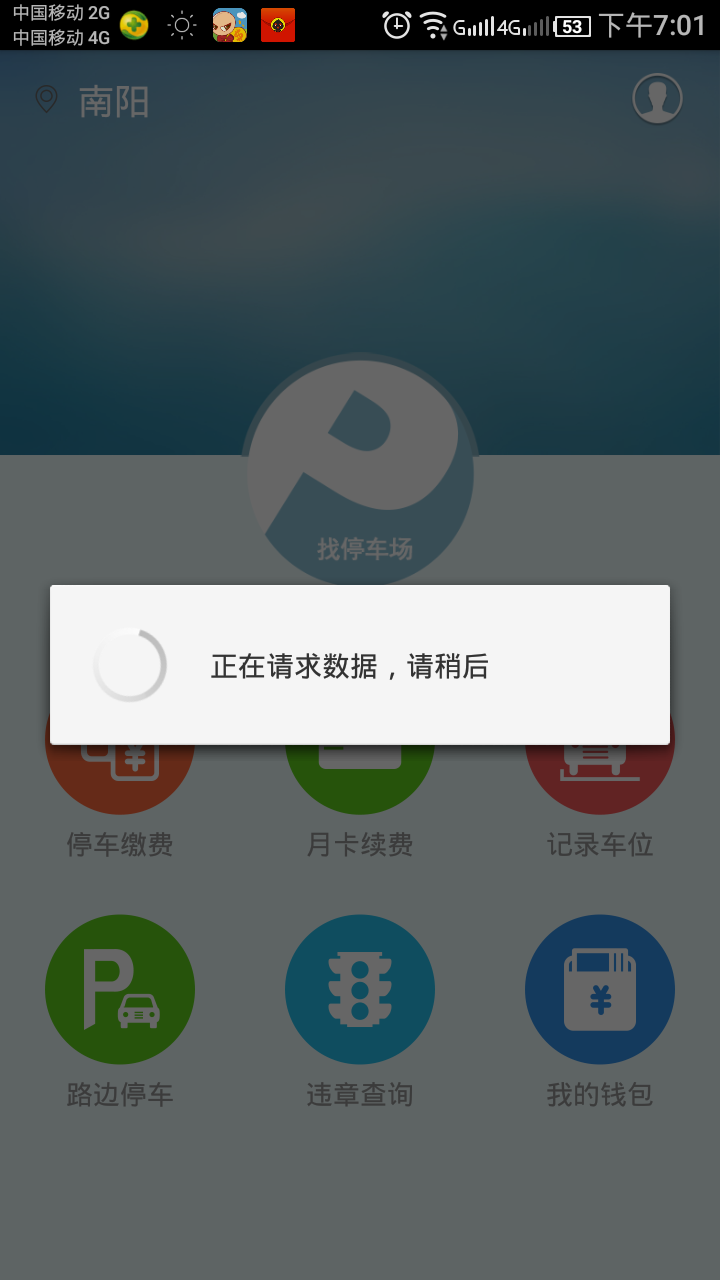alert: (37, 576, 679, 754)
